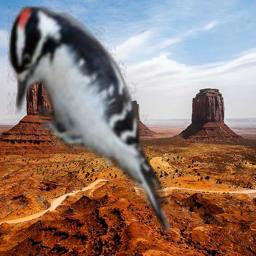Woodpecker: (7, 2, 172, 236)
